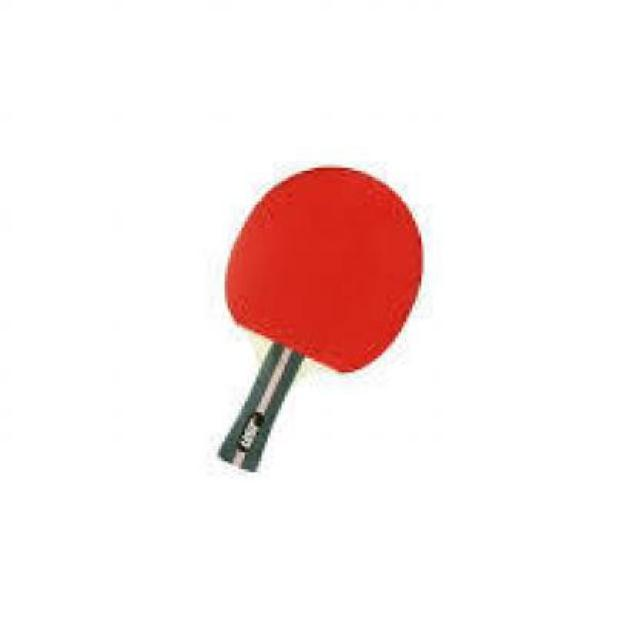table_tennis_racket: (215, 162, 431, 376)
